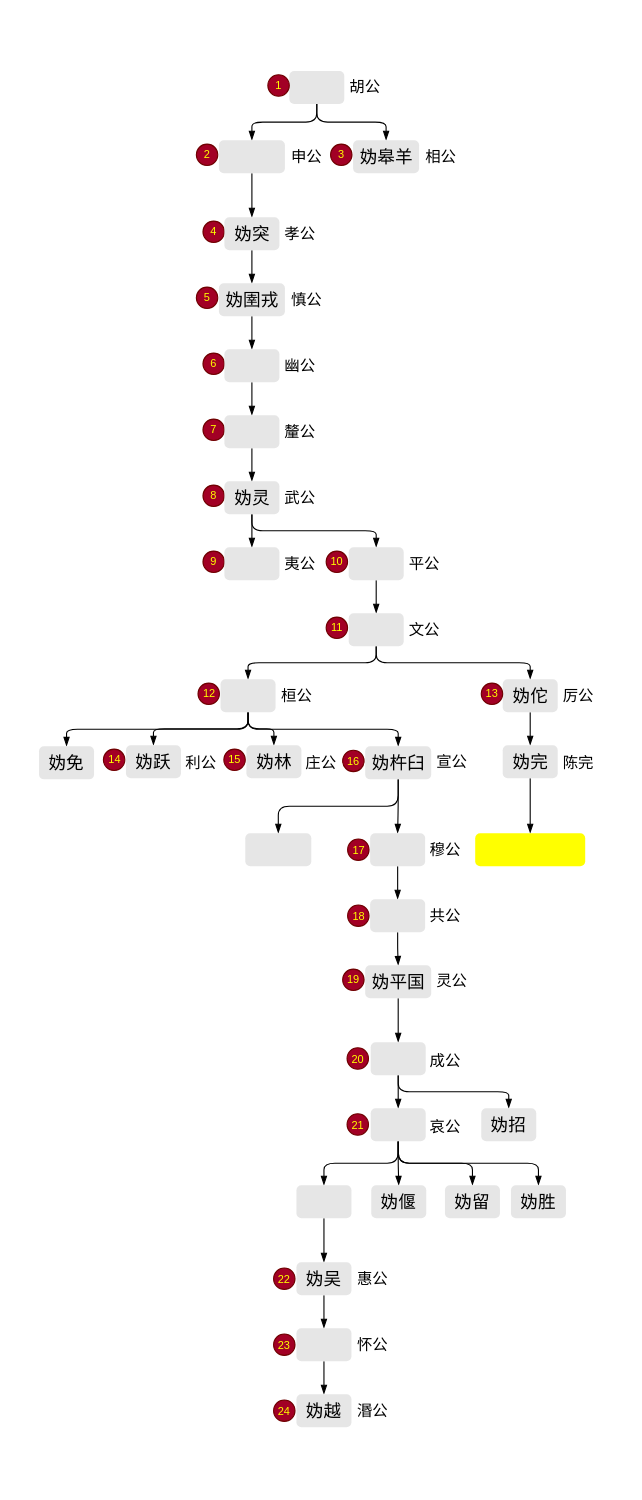
Some shapes in this 642 by 1500 pixel diagram are drawn without their labels. The centre of each missing label's shape, as x and y in pixels:
【田齐世系】: the point at 530,849
妫午: the point at 397,1058
妫圉: the point at 375,629
妫孝: the point at 251,431
妫宁: the point at 251,365
妫师: the point at 323,1201
妫弱: the point at 397,1124
妫御寇: the point at 278,849
妫朔: the point at 397,915
妫柳: the point at 323,1344
妫款: the point at 397,849
妫满: the point at 316,86
妫燮: the point at 375,563
妫犀侯: the point at 251,156
妫说: the point at 251,563
妫鲍: the point at 247,695
